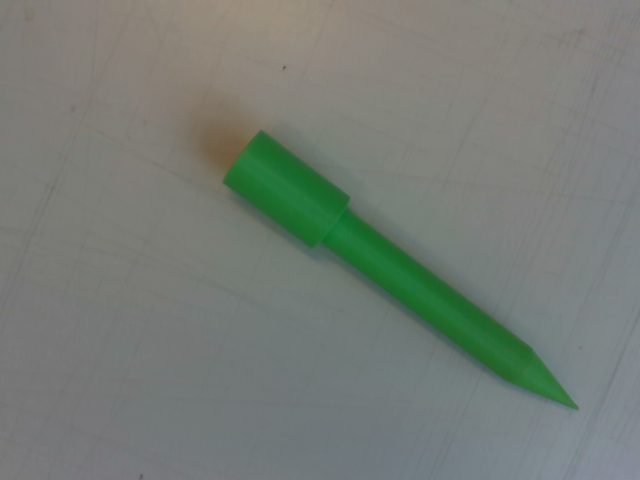Probe: (216, 124, 589, 416)
